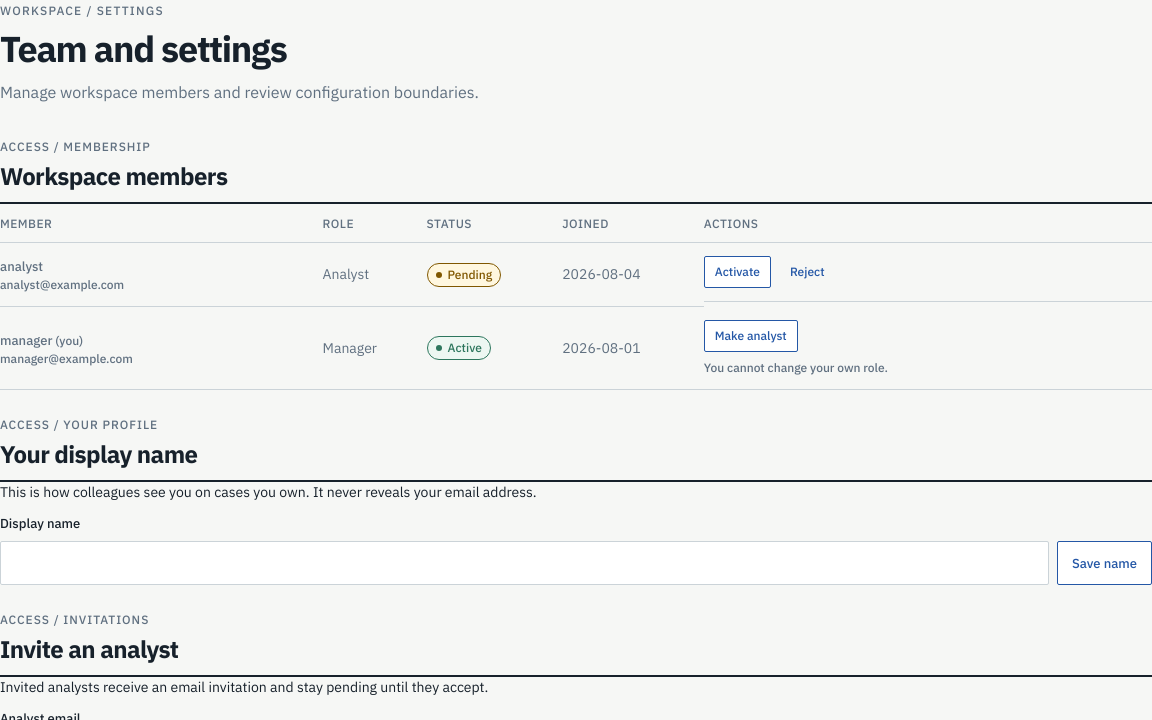
it: member actions › refetches the roster after a row action fails, so a stale row can be corrected
Expected: the table named "workspace members" is shown, left=0, top=204, right=1151, bottom=390
Step 1. Click the button "Activate" → click(737, 272), box left=704, top=256, right=771, bottom=288
(page scrolled)
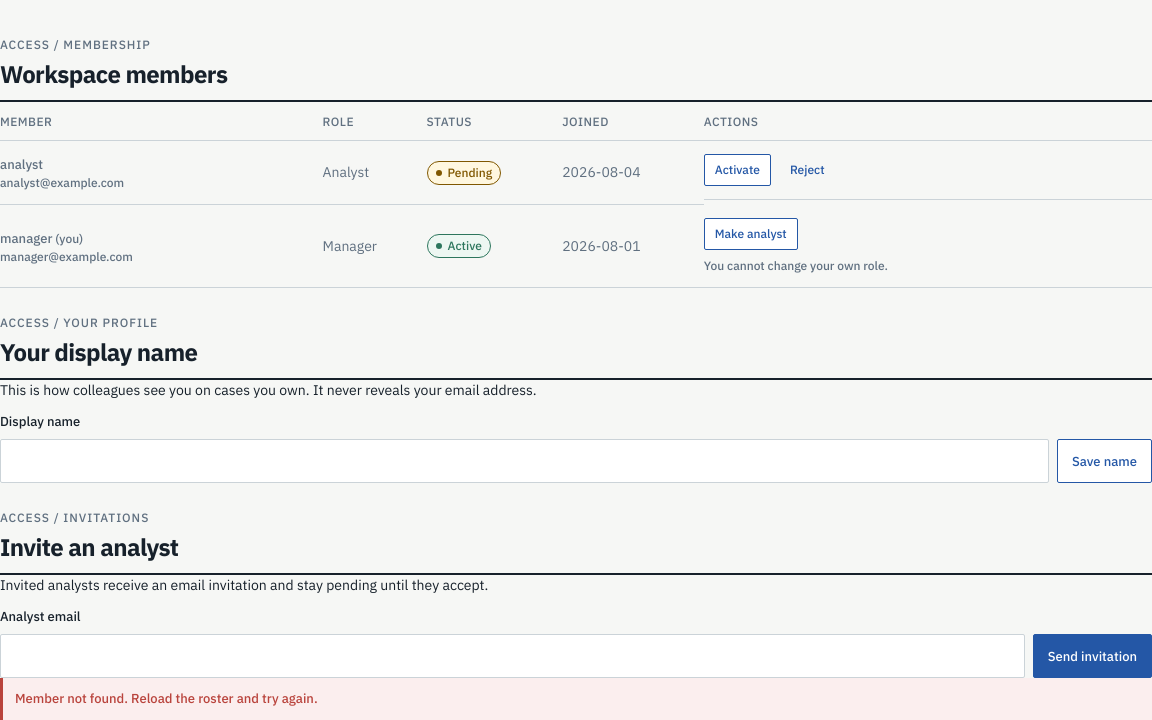
Now the message "Member not found. Reload the roster and try again." is shown, box left=0, top=678, right=1151, bottom=719
